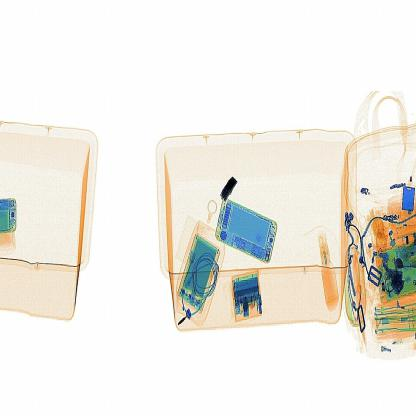scissors: (217, 174, 243, 201)
